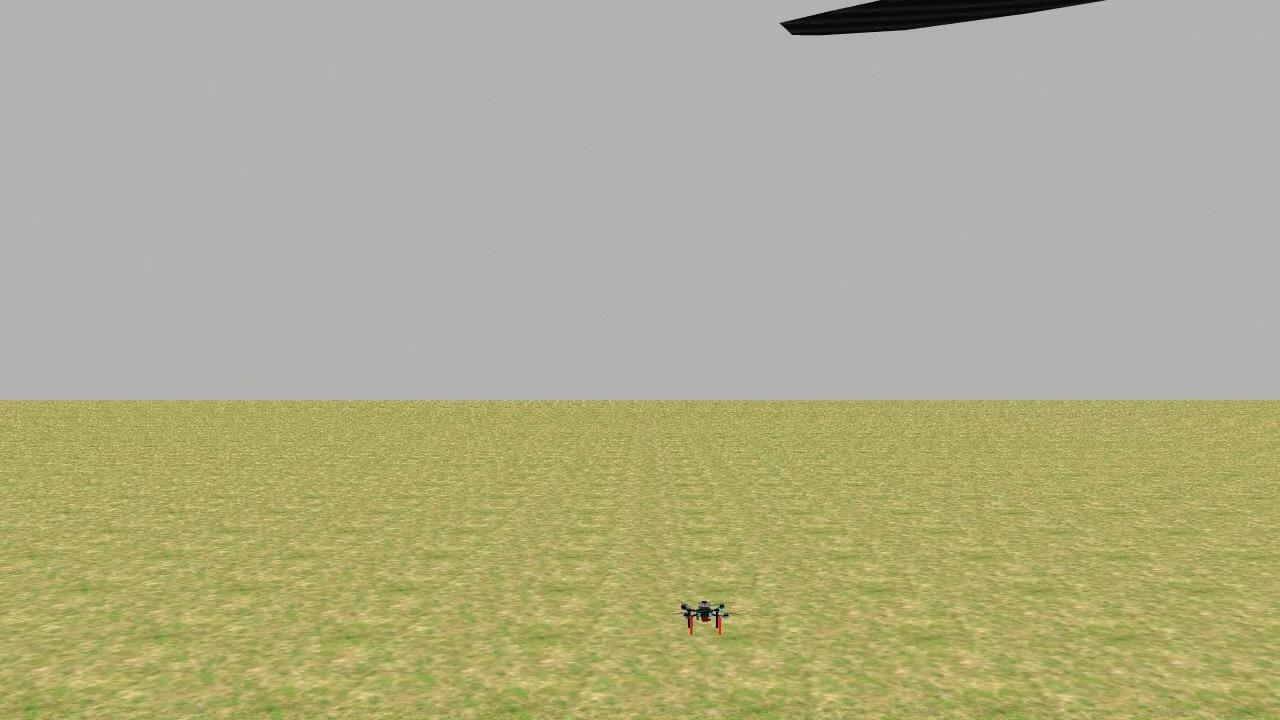UAV: (648, 579, 763, 654)
